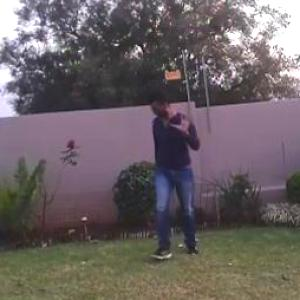follow_hand: (169, 105, 197, 137)
